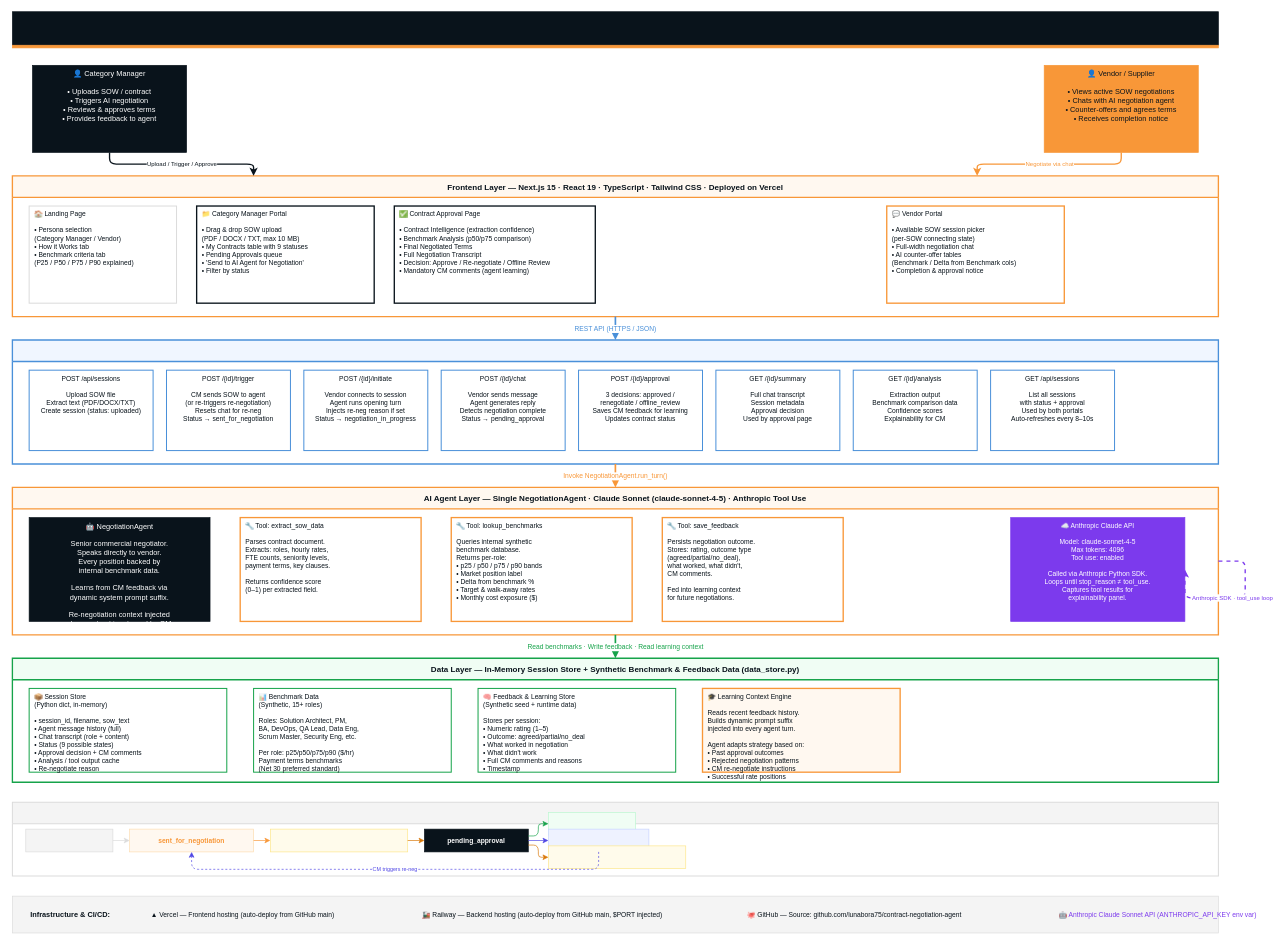
The diagram is 1284 pixels wide and 945 high, and some of its shapes have lost their labels. Each missing label, with the box of its shape:
approved ✓: (548, 812, 635, 835)
Backend API Layer — FastAPI · Python 3.12 · Uvicorn · Deployed on Railway: (11, 339, 1219, 464)
Contract Status Flow (9 States): (12, 802, 1219, 876)
MResult — AI Contract Negotiation Agent | Solution & Technical Architecture: (12, 11, 1218, 45)
negotiation_in_progress: (270, 828, 408, 852)
pending_offline_review 🔎: (548, 845, 686, 869)
re_negotiate ↩: (548, 828, 649, 852)
uploaded: (25, 828, 113, 852)
